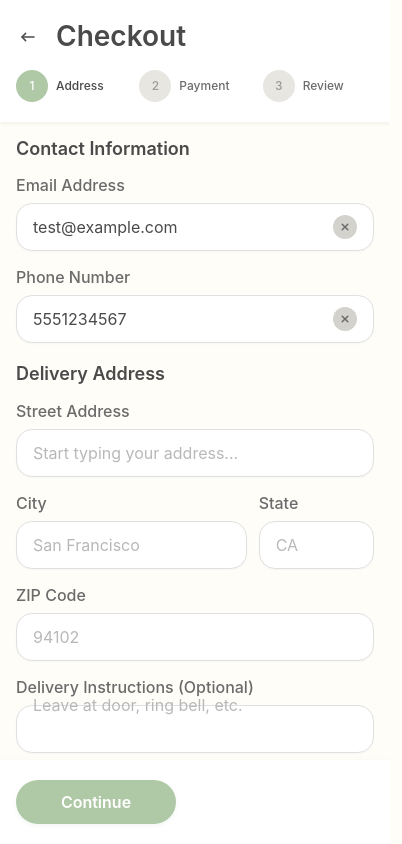
Test: CheckoutScreen › should validate ZIP code format
Type "123" into the field with test id "zipcode-input" at (195, 637), box [33,625,357,649]
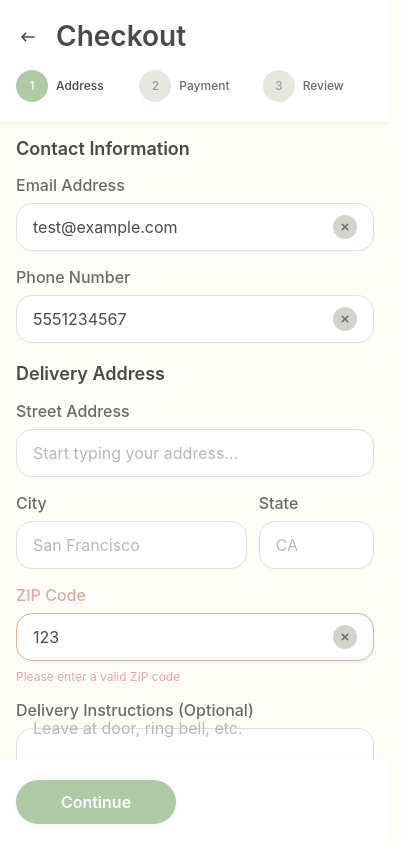
Click the button "Continue" at (96, 802), box [16,780,176,824]
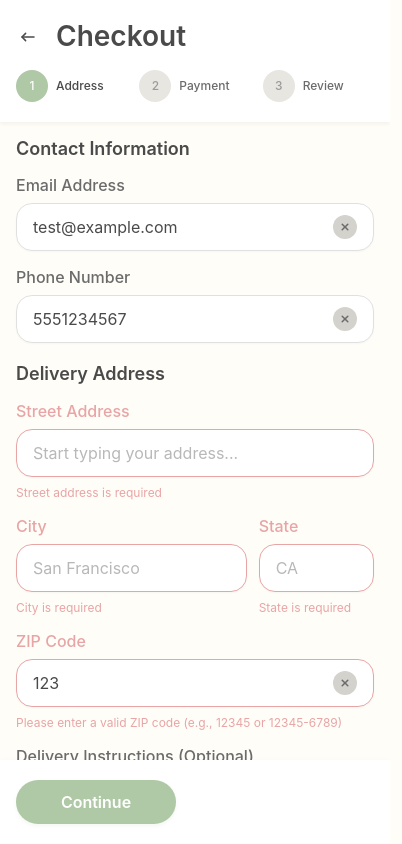
expect the text "Please enter a valid ZIP code (e.g., 12345 or 12345-6789)" is shown: met, box [16,715,374,730]
